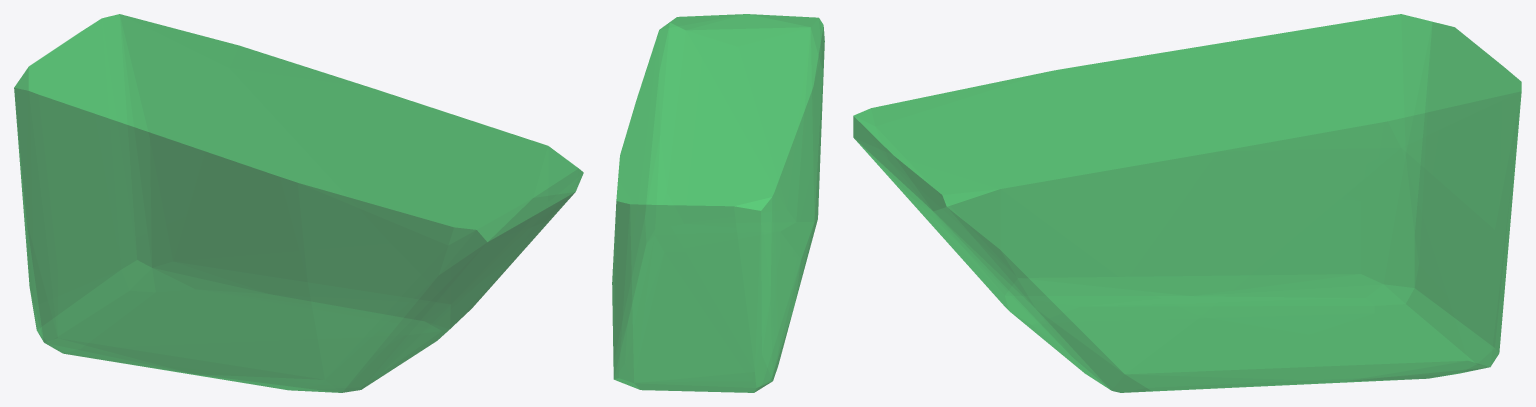
3 renders of one model, left to right at view 1: azimuth 30°, elevation 25°; view 2: azimuth 150°, elevation 25°; view 3: azimuth 270°, elevation 25°, orthographic. The views are drawn at different scales.
Visible parts, largest first — view 1: Shape_IndexedFaceSet.001_Shape_IndexedFaceSet.8608; view 2: Shape_IndexedFaceSet.001_Shape_IndexedFaceSet.8608; view 3: Shape_IndexedFaceSet.001_Shape_IndexedFaceSet.8608.
Part boxes in pixels (x1,y1,x2,y2): Shape_IndexedFaceSet.001_Shape_IndexedFaceSet.8608: [14, 14, 583, 392]; Shape_IndexedFaceSet.001_Shape_IndexedFaceSet.8608: [612, 14, 824, 392]; Shape_IndexedFaceSet.001_Shape_IndexedFaceSet.8608: [853, 14, 1521, 392].
Bounding box in the file's own units: 0.0427 × 0.0307 × 0.0667.
